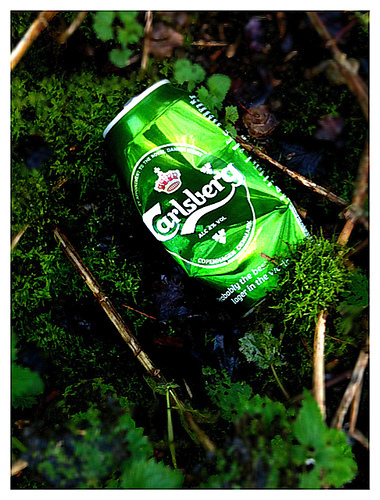litter: (98, 80, 305, 295)
